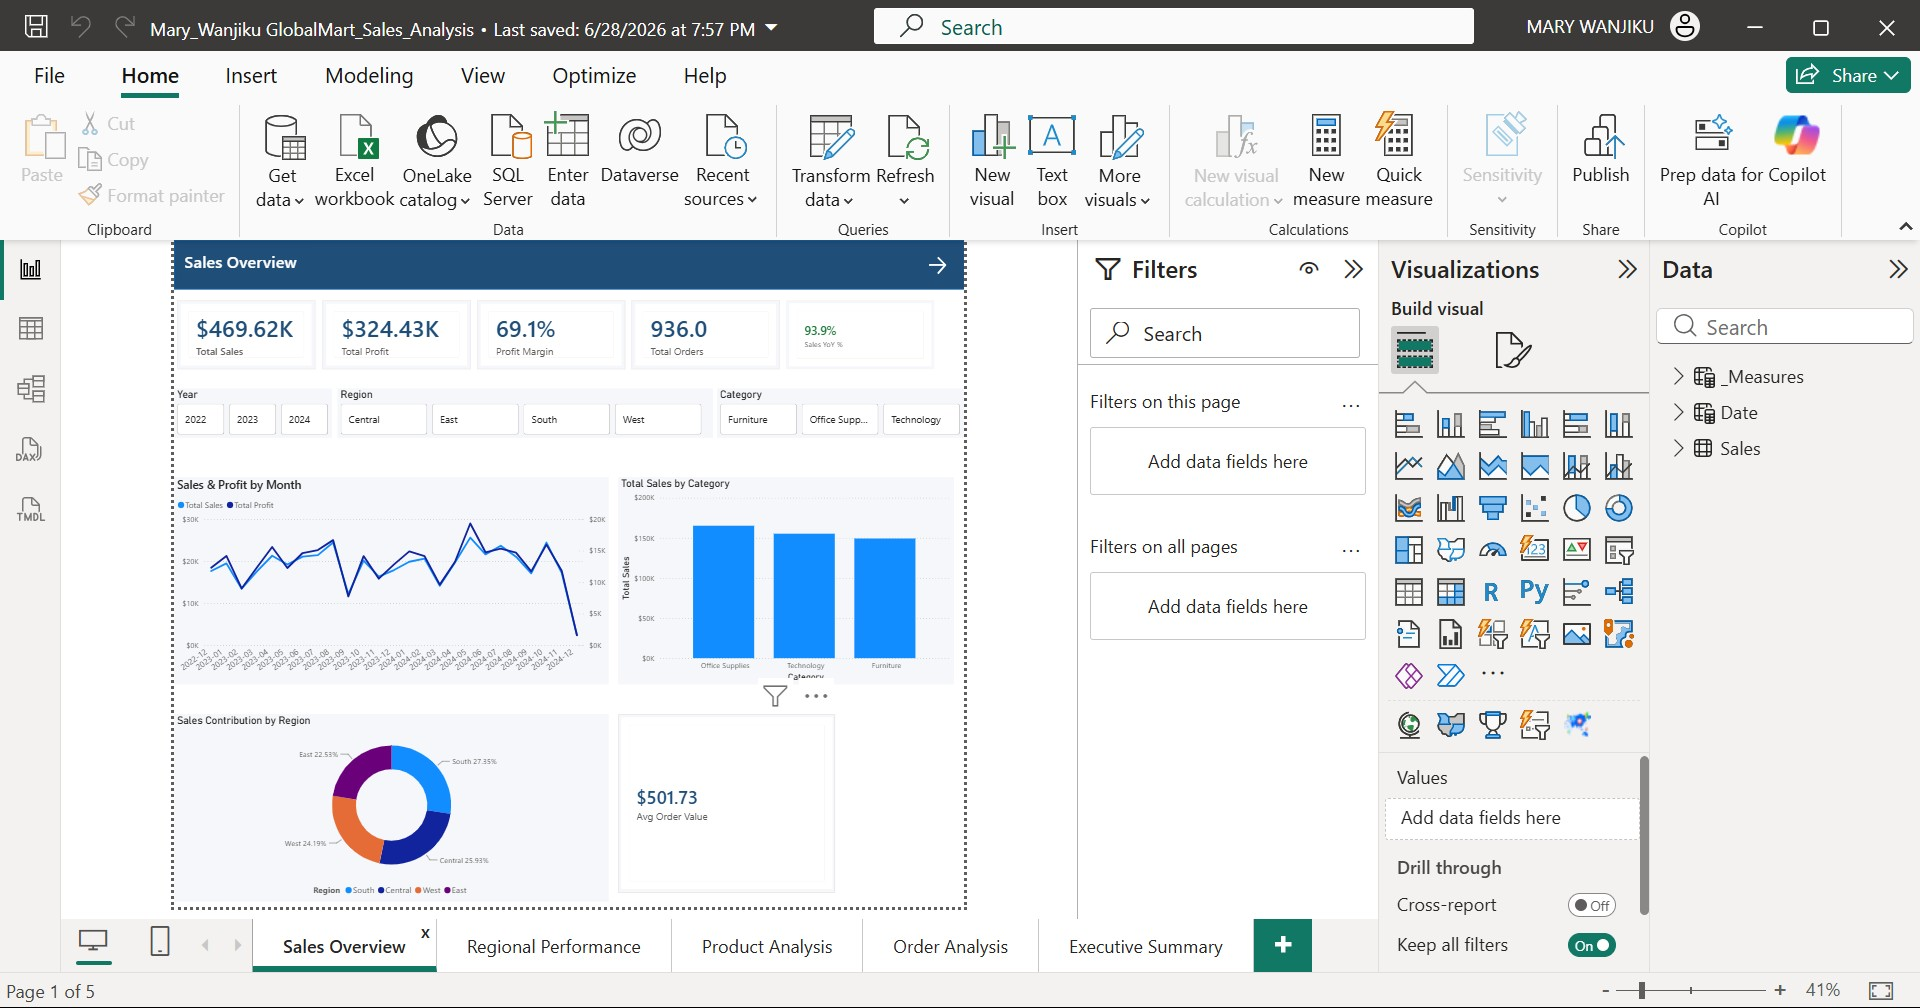

The page's visual inventory and layout, read from the dashboard file:
{"tool":"powerbi","page":{"name":"Sales Overview","canvas":[1280,1080],"ordinal":0},"visuals":[{"type":"shape","box":[0,0,1280,80],"z":0,"group":"g1"},{"type":"cardVisual","fields":{"Data":["_Measures.Total Sales"]},"box":[5.7,96.8,224,112],"z":0},{"type":"textbox","box":[12,13,211,54],"z":1000,"group":"g1"},{"type":"cardVisual","fields":{"Data":["_Measures.Total Profit"]},"box":[240.2,96.8,240,112],"z":1000},{"type":"cardVisual","fields":{"Data":["_Measures.Profit Margin"]},"box":[490.8,96.8,240,112],"z":2000},{"type":"cardVisual","fields":{"Data":["_Measures.Total Orders"]},"box":[741.4,96,240,112],"z":3000},{"type":"cardVisual","fields":{"Data":["_Measures.Sales YoY %"]},"box":[992,96,240,112],"z":4000},{"type":"lineChart","title":"Sales & Profit by Month","fields":{"Category":["DimDate.YearMonth"],"Y":["_Measures.Total Sales"],"Y2":["_Measures.Total Profit"]},"box":[0,384,704,336],"z":5000},{"type":"clusteredColumnChart","fields":{"Category":["Sales.Category"],"Y":["_Measures.Total Sales"]},"box":[720,384,544,336],"z":6000},{"type":"donutChart","title":"Sales Contribution by Region","fields":{"Category":["Sales.Region"],"Y":["_Measures.Total Sales"]},"box":[0,768,704,304],"z":7000},{"type":"cardVisual","fields":{"Data":["_Measures.Avg Order Value"]},"box":[720,768,352,288],"z":8000},{"type":"advancedSlicerVisual","fields":{"Values":["Sales.Region"]},"box":[264,240,608,80],"z":9000},{"type":"advancedSlicerVisual","fields":{"Values":["DimDate.Year"]},"box":[0,240,256,80],"z":10000},{"type":"advancedSlicerVisual","fields":{"Values":["Sales.Category"]},"box":[880,240,400,80],"z":11000},{"type":"group","id":"g1","title":"Group 1","box":[0,0,1280,80],"z":12000},{"type":"actionButton","box":[1216,16,48,48],"z":12001,"group":"g1"}]}

Visuals, with their boxes on the page's 1280x1080 design canvas (x1, y1, x2, y2). These are canvas units, not pixel positions in the 1920x1008 screenshot, which may show the page scaled, cropped or inside an application window:
shape: BBox(0, 0, 1280, 80)
cardVisual - _Measures.Total Sales: BBox(6, 97, 230, 209)
textbox: BBox(12, 13, 223, 67)
cardVisual - _Measures.Total Profit: BBox(240, 97, 480, 209)
cardVisual - _Measures.Profit Margin: BBox(491, 97, 731, 209)
cardVisual - _Measures.Total Orders: BBox(741, 96, 981, 208)
cardVisual - _Measures.Sales YoY %: BBox(992, 96, 1232, 208)
"Sales & Profit by Month" lineChart: BBox(0, 384, 704, 720)
clusteredColumnChart - Sales.Category x _Measures.Total Sales: BBox(720, 384, 1264, 720)
"Sales Contribution by Region" donutChart: BBox(0, 768, 704, 1072)
cardVisual - _Measures.Avg Order Value: BBox(720, 768, 1072, 1056)
advancedSlicerVisual - Sales.Region: BBox(264, 240, 872, 320)
advancedSlicerVisual - DimDate.Year: BBox(0, 240, 256, 320)
advancedSlicerVisual - Sales.Category: BBox(880, 240, 1280, 320)
"Group 1" group: BBox(0, 0, 1280, 80)
actionButton: BBox(1216, 16, 1264, 64)
